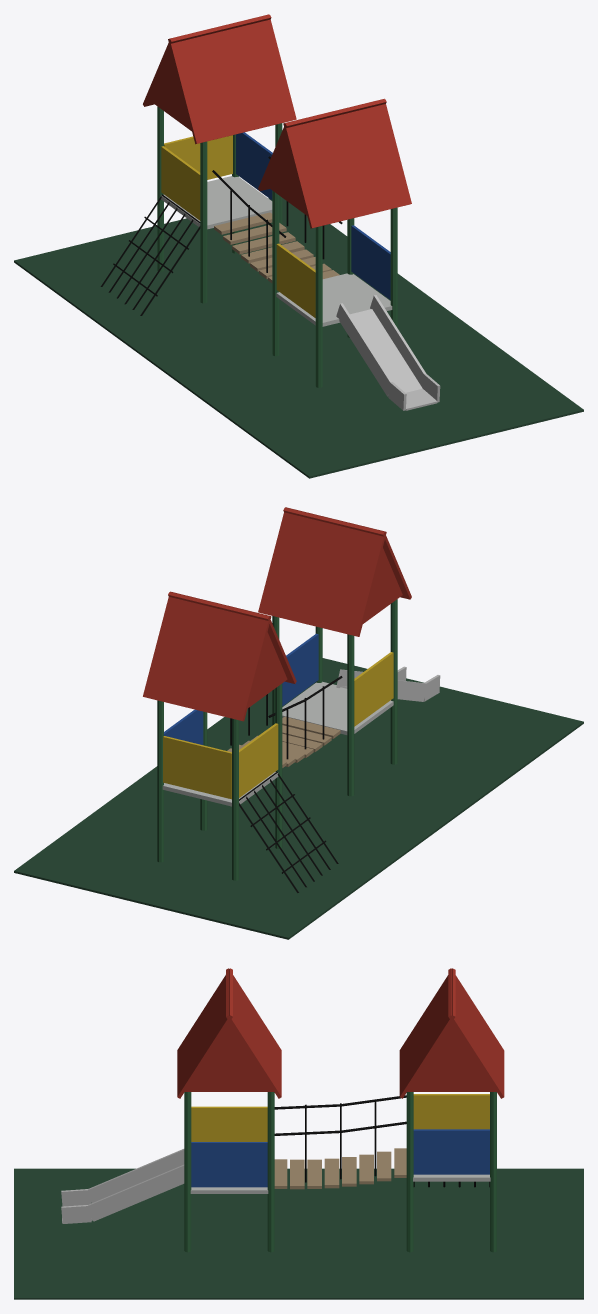
The model's file is sport.play.climber_steel.glb.
3 renders of one model, top to bottom at view 1: azimuth 30°, elevation 25°; view 2: azimuth 150°, elevation 25°; view 3: azimuth 270°, elevation 25°, orthographic. The views are drawn at different scales.
Visible parts, largest first — view 1: main__paint_243, main__paint_a32, main__paint_364, main__paint_ca2, main__steel_bbb, main__paint_bbb, main__paint_259, main__paint_986, main__rubber; view 2: main__paint_243, main__paint_a32, main__paint_ca2, main__paint_364, main__paint_bbb, main__rubber, main__paint_259, main__paint_986, main__steel_bbb; view 3: main__paint_243, main__paint_a32, main__paint_259, main__paint_ca2, main__paint_364, main__steel_bbb, main__paint_986, main__rubber, main__paint_bbb.
Part boxes in pixels (box(x1,y1,x2,y2)): main__paint_243: box(14, 198, 583, 478); main__paint_a32: box(143, 14, 411, 228); main__paint_364: box(157, 106, 397, 387); main__paint_ca2: box(161, 135, 315, 317); main__steel_bbb: box(336, 295, 440, 410); main__paint_bbb: box(161, 176, 392, 326); main__paint_259: box(236, 132, 390, 299); main__paint_986: box(214, 212, 339, 283); main__rubber: box(100, 156, 342, 315); main__paint_243: box(14, 658, 583, 939); main__paint_a32: box(143, 507, 411, 721); main__paint_ca2: box(163, 652, 393, 799); main__paint_364: box(157, 599, 397, 880); main__paint_bbb: box(162, 681, 393, 806); main__rubber: box(230, 676, 342, 892); main__paint_259: box(164, 633, 318, 744); main__paint_986: box(227, 716, 340, 767); main__steel_bbb: box(336, 666, 440, 701); main__paint_243: box(14, 1168, 583, 1299); main__paint_a32: box(177, 968, 504, 1098); main__paint_259: box(191, 1129, 489, 1187); main__paint_ca2: box(191, 1094, 489, 1141); main__paint_364: box(184, 1092, 496, 1252); main__steel_bbb: box(61, 1149, 184, 1223); main__paint_986: box(274, 1148, 406, 1189); main__rubber: box(274, 1095, 489, 1187); main__paint_bbb: box(190, 1174, 490, 1193).
Bounding box in the file's own units: 4.4 × 3.88 × 8.2.
